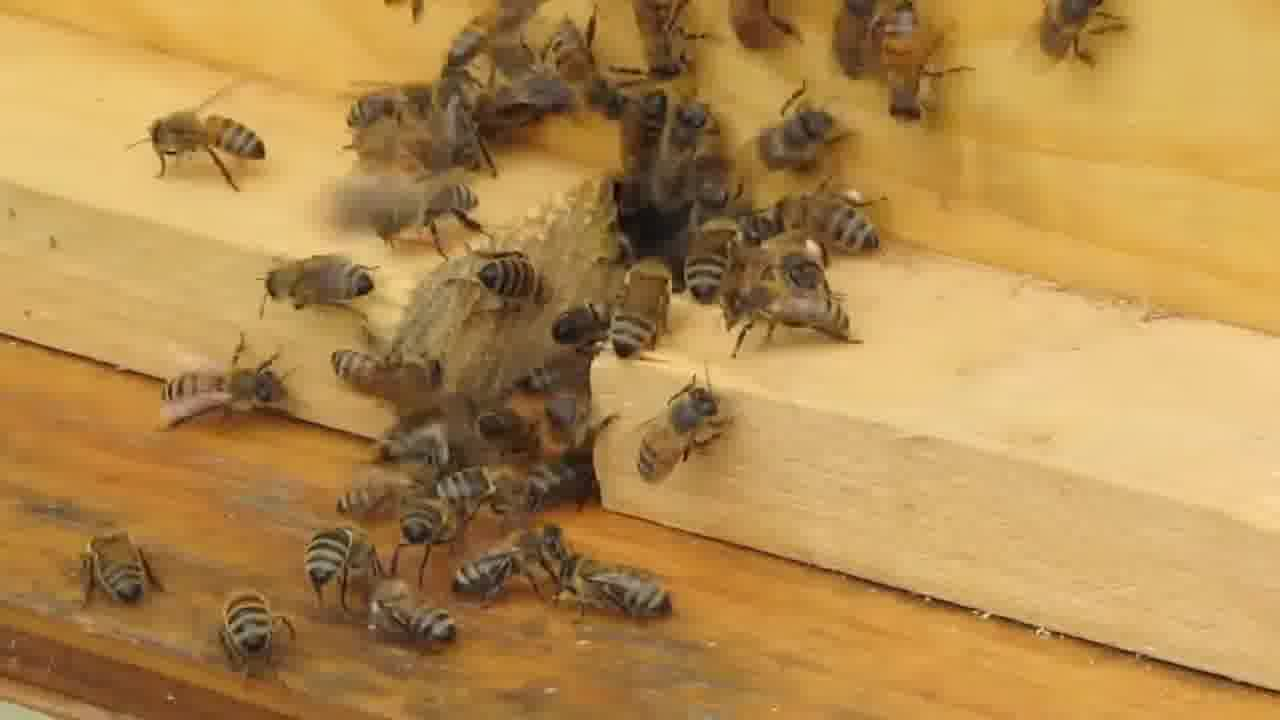pollen: (773, 189, 893, 269)
